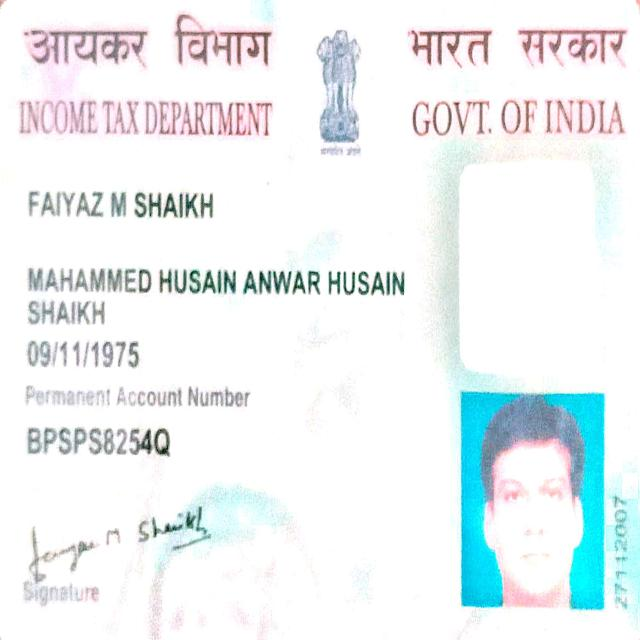pan_card: (0, 3, 639, 640)
